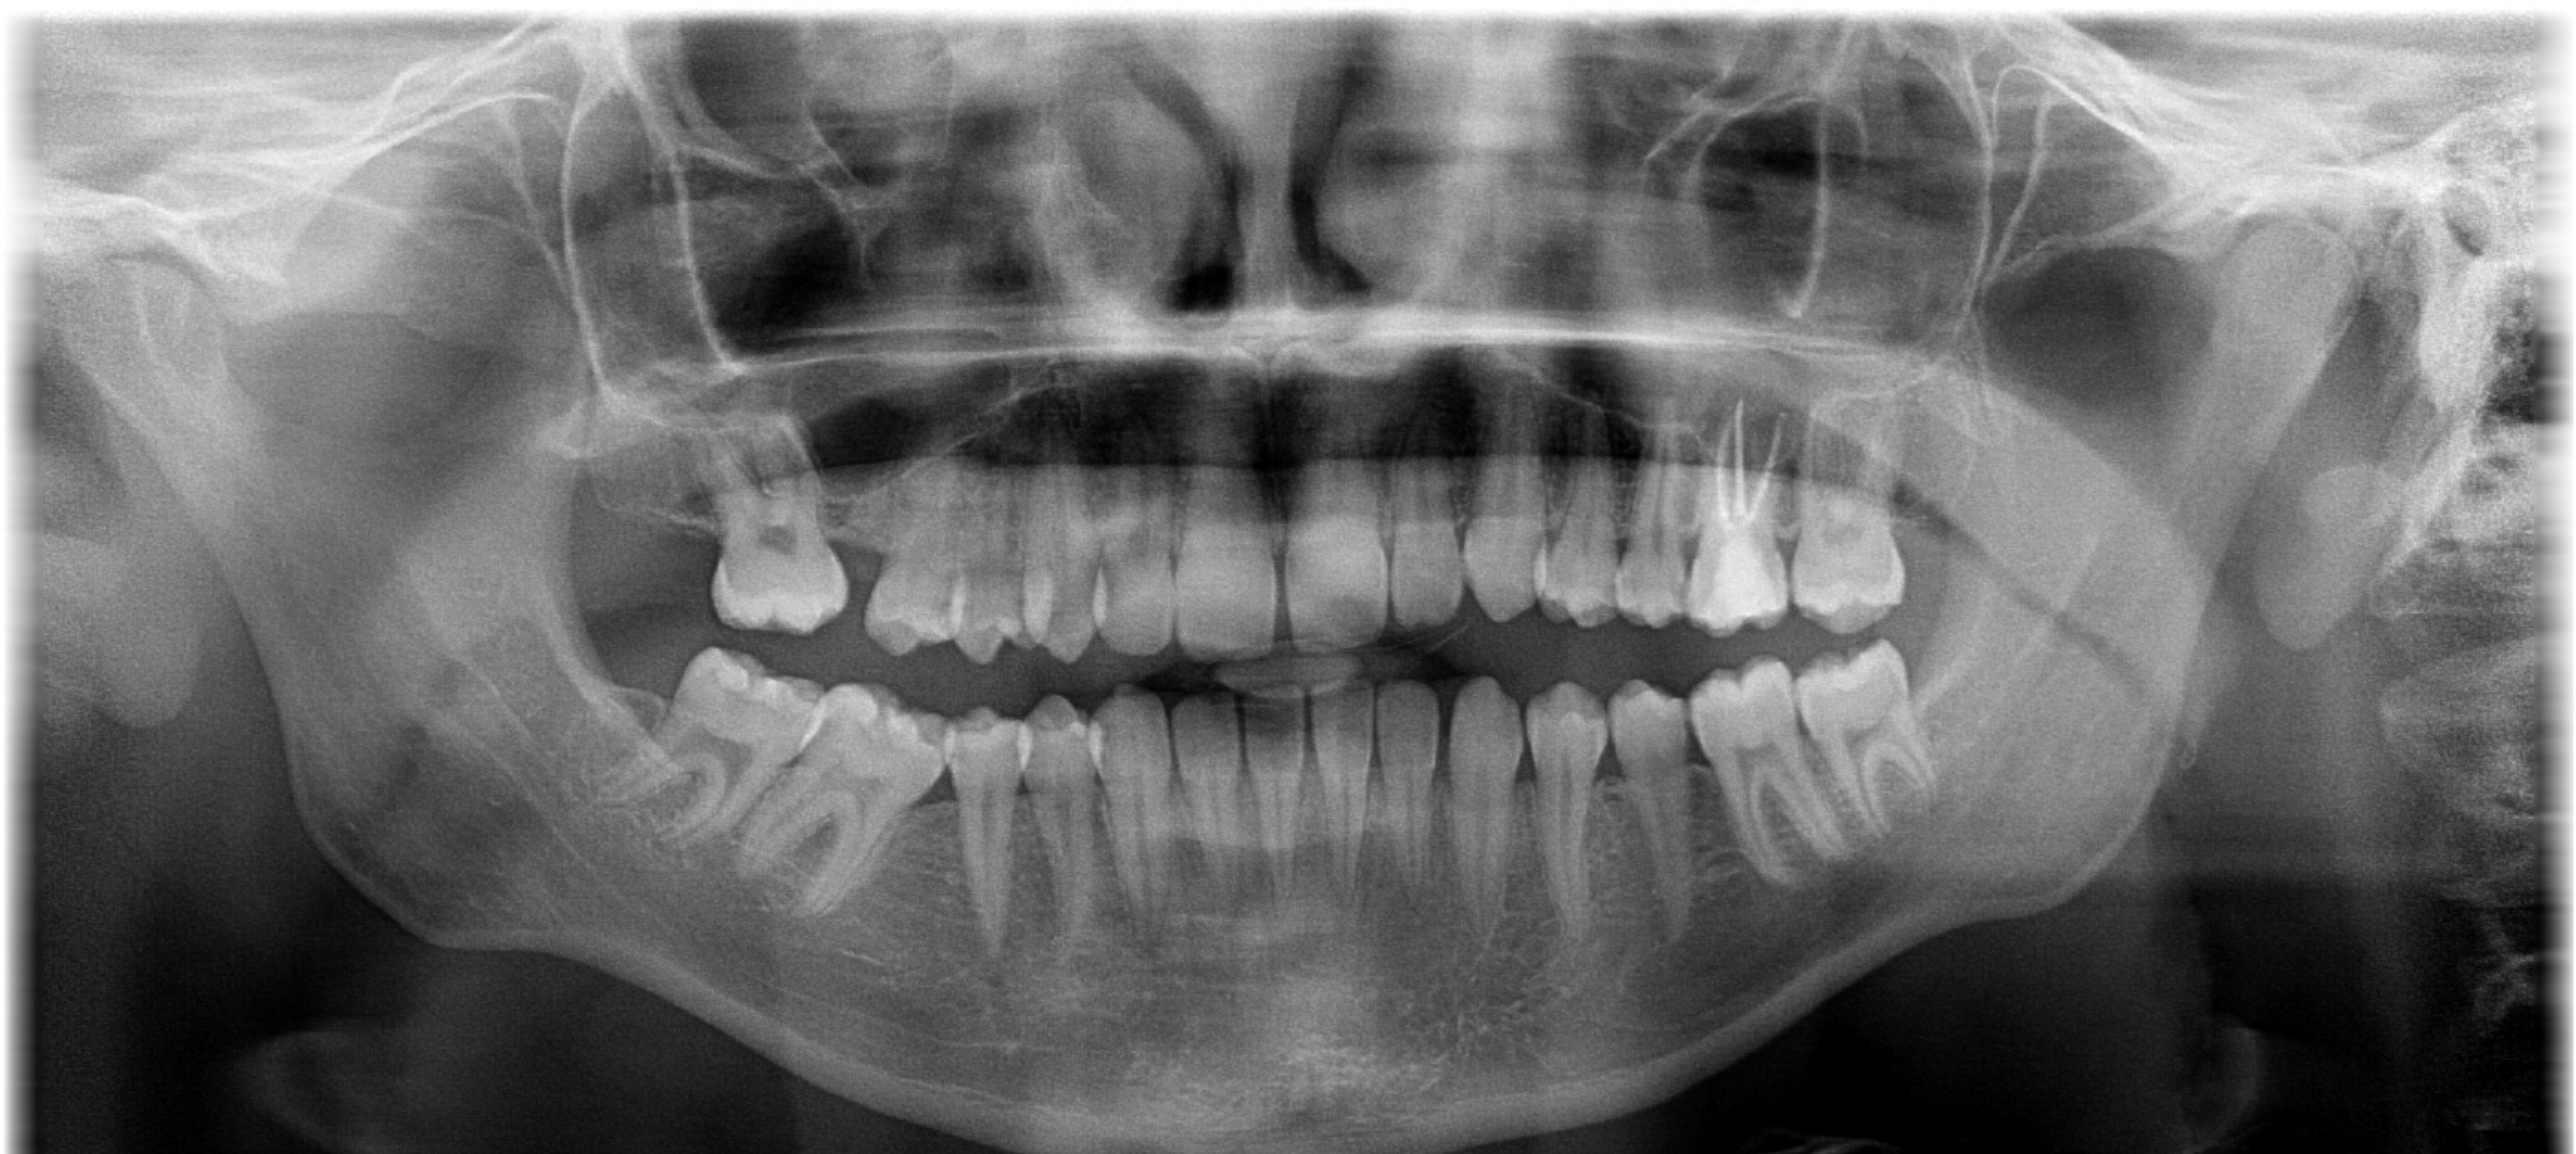diastema: (1237, 451, 1314, 668)
tratamiento_conducto: (1669, 384, 1827, 655)
zona_dentula: (790, 448, 923, 668)
